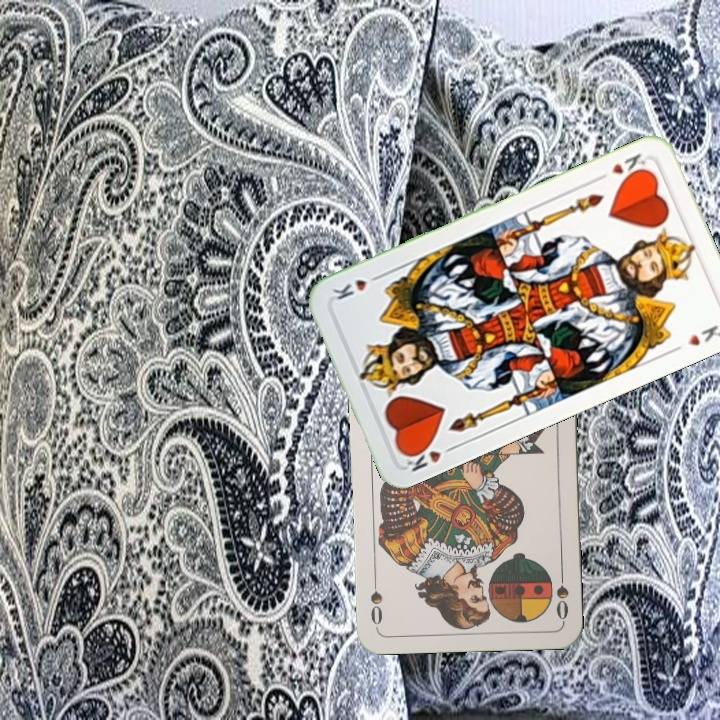HK: (400, 438, 459, 475), (593, 149, 650, 184)
SO: (552, 564, 572, 623)
